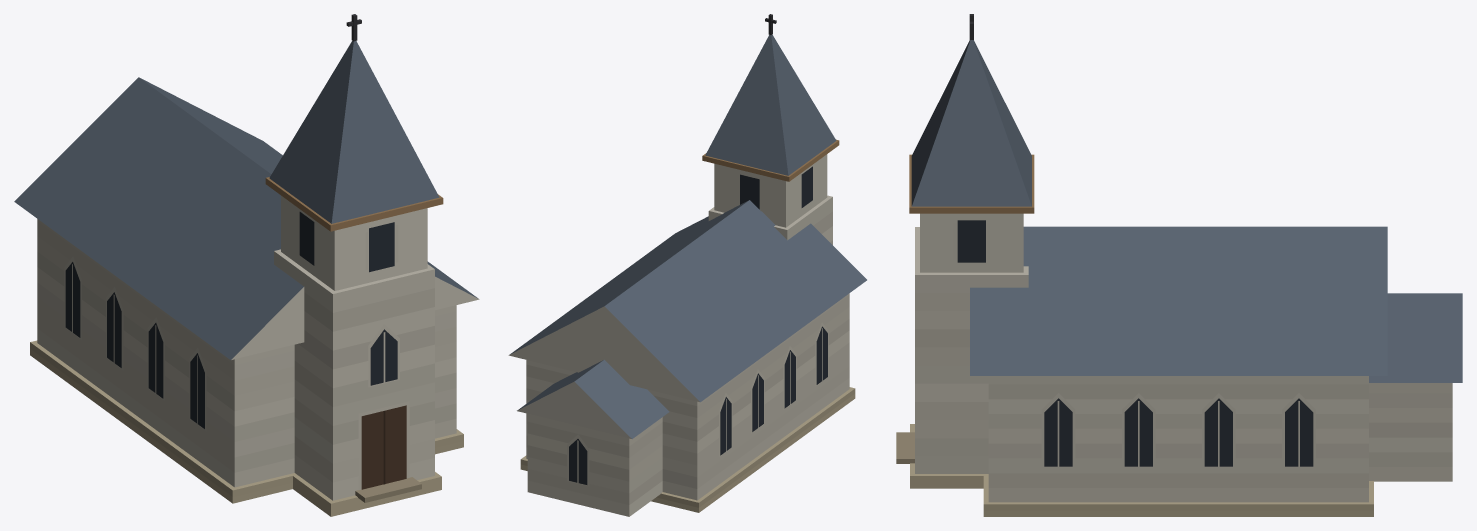
Rendered from church.glb.
3 renders of one model, left to right at view 1: azimuth 30°, elevation 25°; view 2: azimuth 150°, elevation 25°; view 3: azimuth 270°, elevation 25°, orthographic. The views are drawn at different scales.
Visible parts, largest first — view 1: church; view 2: church; view 3: church.
Part boxes in pixels (x1=…): church: x1=14, y1=14, x2=479, y2=516; church: x1=508, y1=14, x2=866, y2=516; church: x1=896, y1=14, x2=1462, y2=516.
Bounding box in the file's own units: 8.3 × 14.8 × 16.96.
